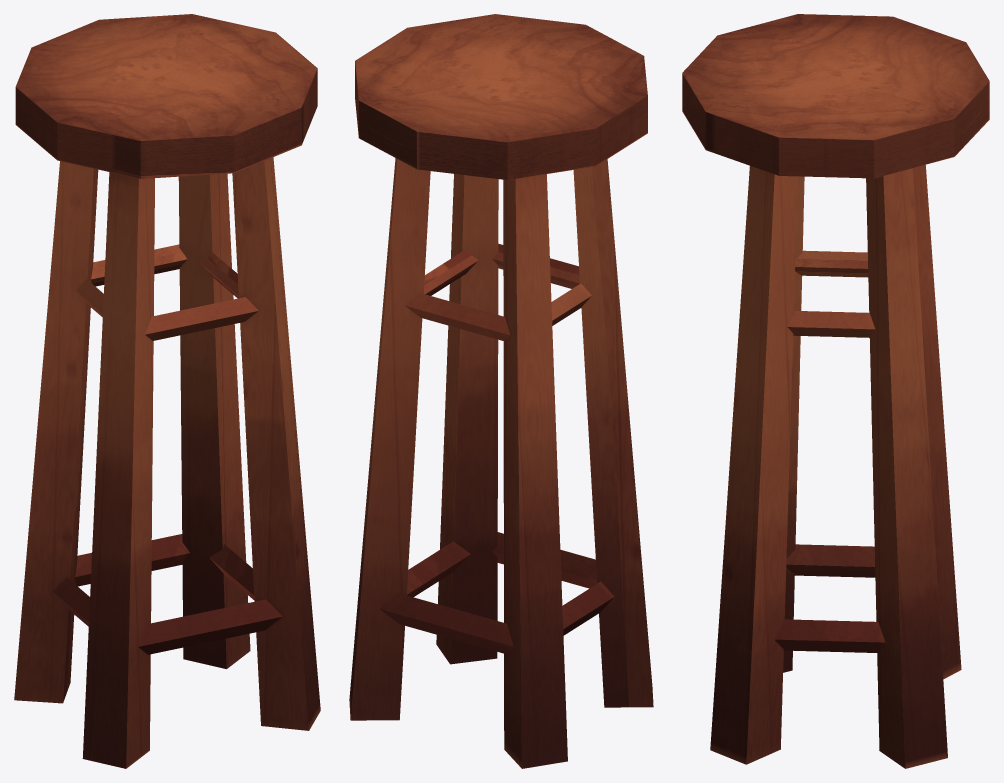
The model's file is chair.fbx.
3 renders of one model, left to right at view 1: azimuth 30°, elevation 25°; view 2: azimuth 150°, elevation 25°; view 3: azimuth 270°, elevation 25°, orthographic.
Visible parts, largest first — view 1: chairs.001; view 2: chairs.001; view 3: chairs.001.
Boxes of the visible parts, x1,y1,x2,y2 form: chairs.001: (14, 14, 320, 768); chairs.001: (349, 14, 653, 768); chairs.001: (682, 14, 989, 768).
Size of the model in its own units: 110 by 259 by 114.
Materials: 1 (1 with a texture image).
